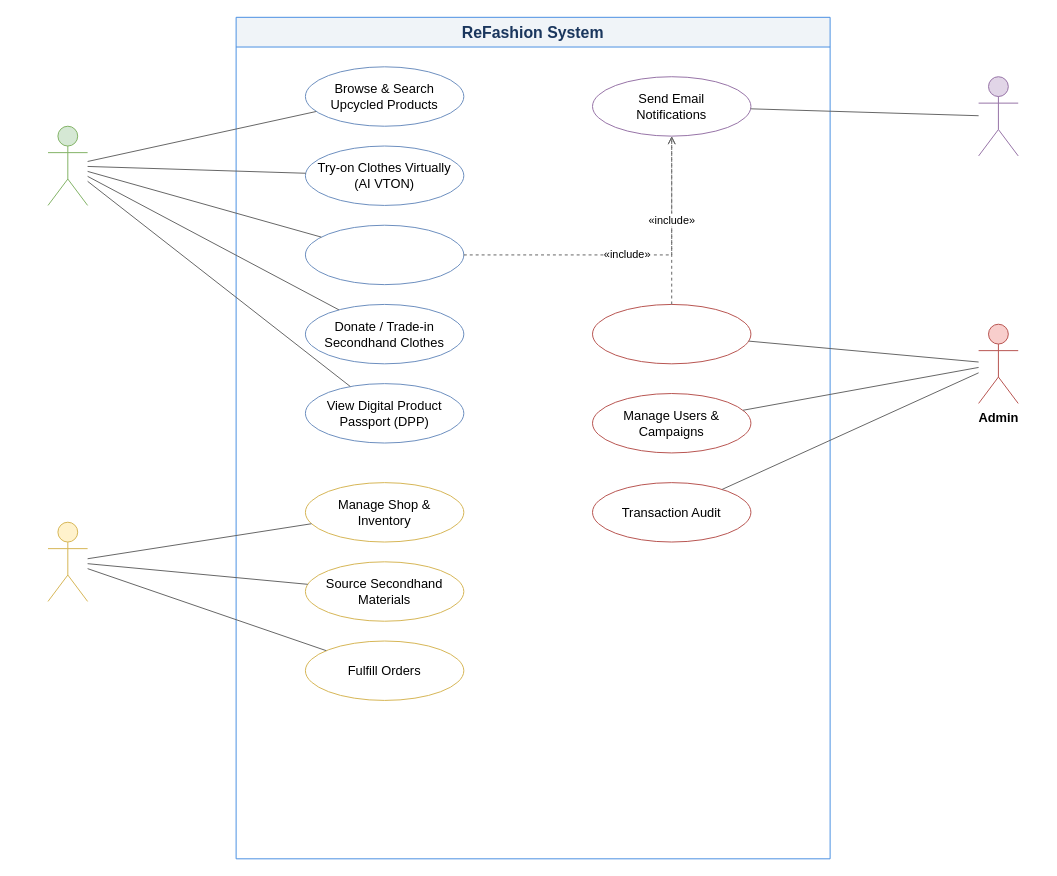
This 1057x876 diagram has some shape labels left out. Each missing label, with the centre of its shape:
"Approve Shops & Products" goes at point (671, 333).
"Buyer / Provider" goes at point (67, 165).
"Designer / Seller" goes at point (67, 561).
"Purchase Products" goes at point (384, 254).
"«System» Email Service" goes at point (998, 116).
